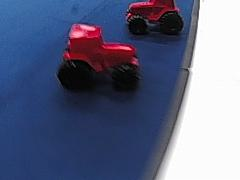Tracktor: (57, 19, 143, 91), (123, 0, 184, 34)
